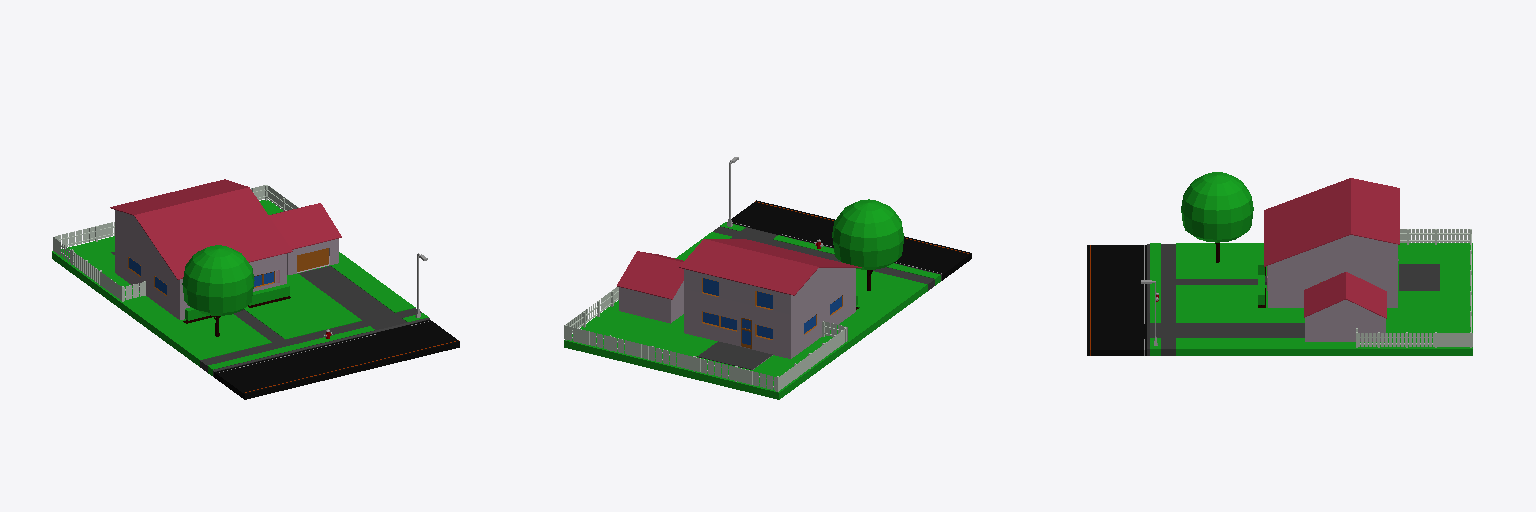
File: House.obj
3 renders of one model, left to right at view 1: azimuth 30°, elevation 25°; view 2: azimuth 150°, elevation 25°; view 3: azimuth 270°, elevation 25°, orthographic.
Parts seen in each view (by area): view 1: Cube.009_Cube.012; view 2: Cube.009_Cube.012; view 3: Cube.009_Cube.012.
Boxes of the visible parts, x1=… form: Cube.009_Cube.012: x1=52, y1=179, x2=459, y2=399; Cube.009_Cube.012: x1=564, y1=157, x2=971, y2=399; Cube.009_Cube.012: x1=1087, y1=172, x2=1472, y2=355.
Size of the model in its own units: 19.45 by 8.1 by 30.14.